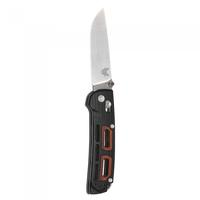knife: (77, 4, 126, 197)
